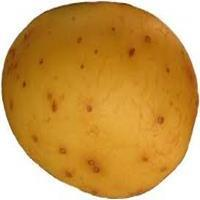biodegradable: (1, 1, 200, 199)
